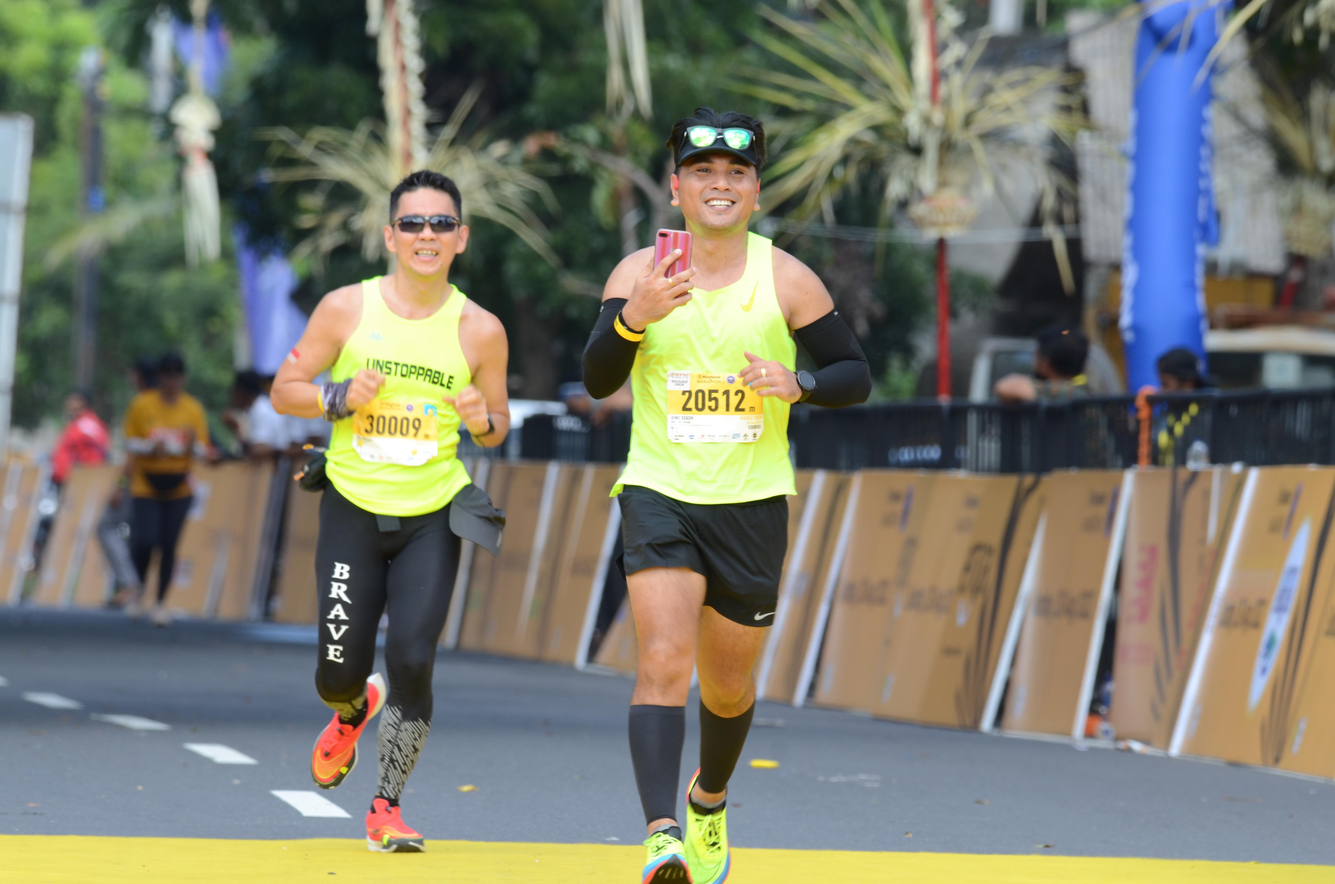bib: (666, 371, 763, 444), (358, 399, 438, 467)
